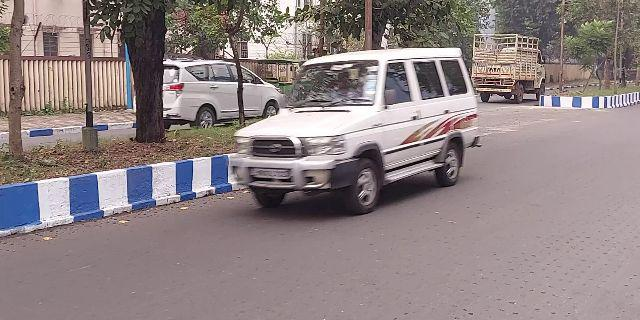Car: (226, 54, 480, 214), (162, 56, 286, 126)
Minitruck: (470, 29, 553, 100)
